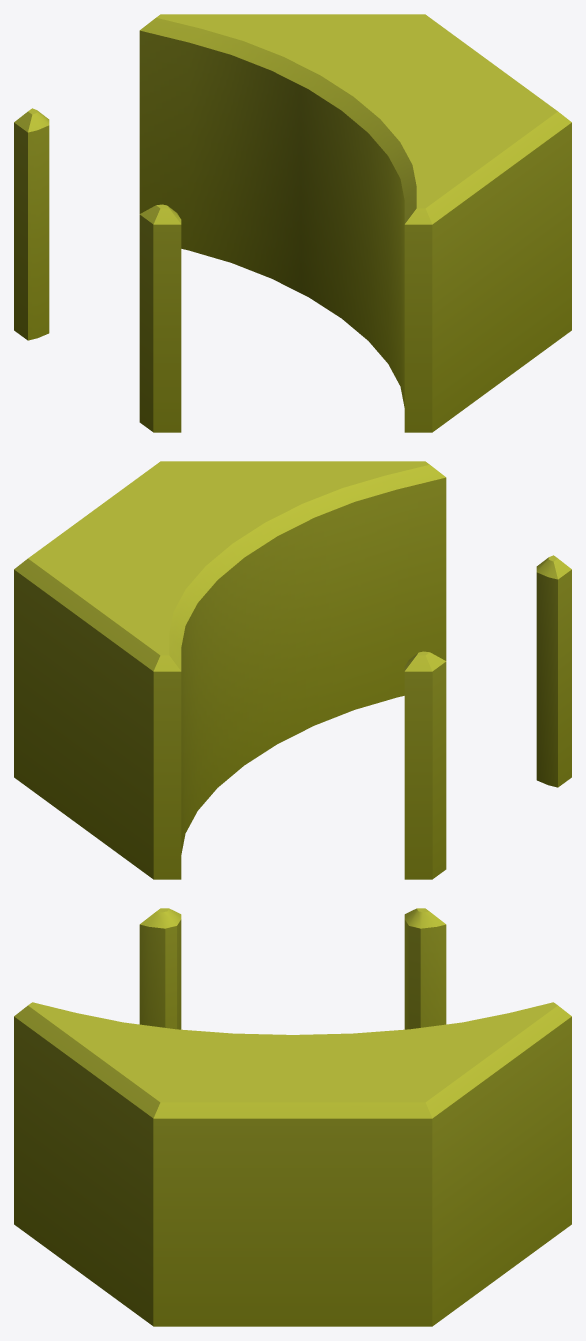
File: hex_river_G_waterless.glb
3 views of the same model, one above another, from view 1: azimuth 30°, elevation 25°; view 2: azimuth 150°, elevation 25°; view 3: azimuth 270°, elevation 25° (orthographic).
Visible parts, largest first — view 1: hex_river_G_waterless; view 2: hex_river_G_waterless; view 3: hex_river_G_waterless.
Boxes of the visible parts, left/top/right/bottom form: hex_river_G_waterless: left=14, top=14, right=571, bottom=432; hex_river_G_waterless: left=14, top=461, right=571, bottom=879; hex_river_G_waterless: left=14, top=908, right=571, bottom=1326.
Size of the model in its own units: 2 by 1 by 2.31.
1 material, 1 textured.
